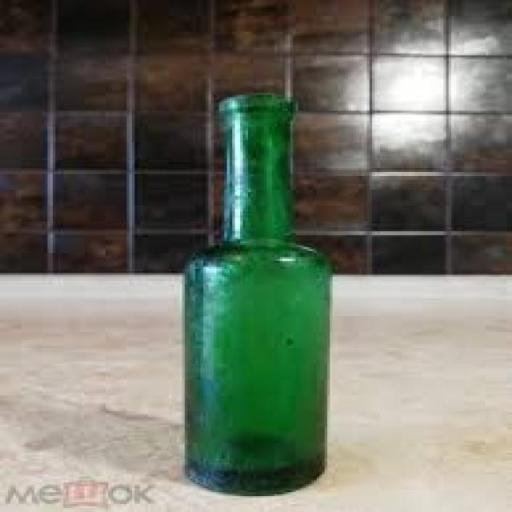glass: (169, 94, 341, 500)
